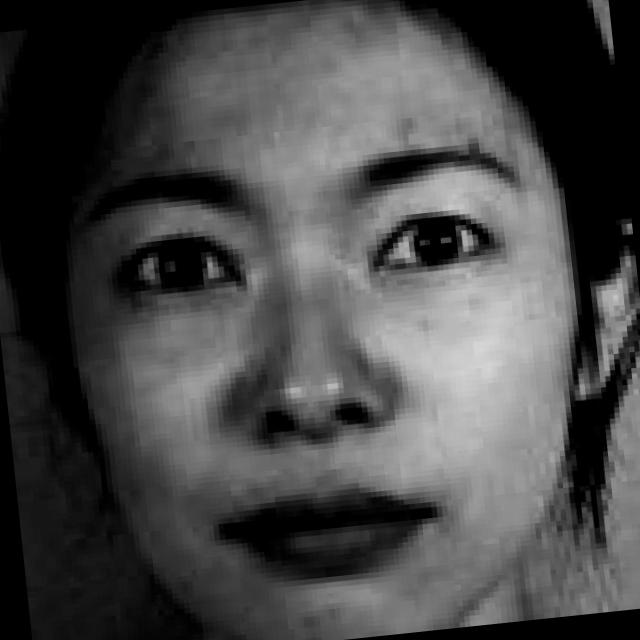fear: (38, 42, 576, 640)
